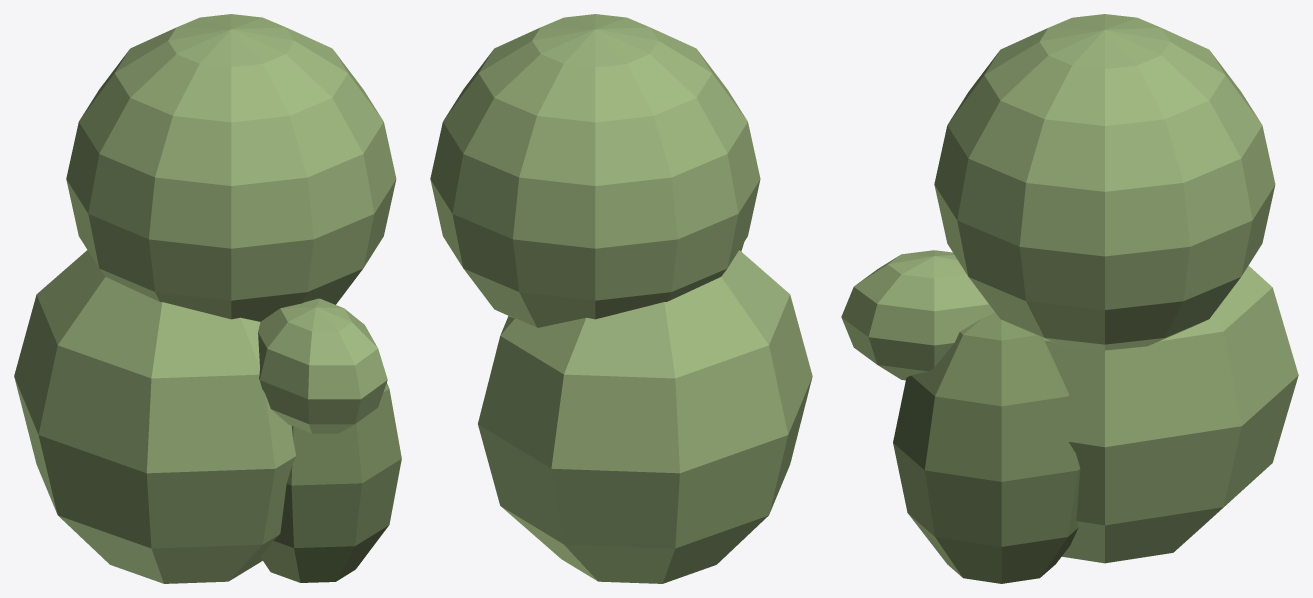
Rendered from SM_Orc_Hand_R.fbx.
The picture shows the model from 3 angles, left to right: view 1: azimuth 30°, elevation 25°; view 2: azimuth 150°, elevation 25°; view 3: azimuth 270°, elevation 25°; orthographic projection. The views are drawn at different scales.
Visible parts, largest first — view 1: SM_Orc_Hand_R; view 2: SM_Orc_Hand_R; view 3: SM_Orc_Hand_R.
Part boxes in pixels (x1=…): SM_Orc_Hand_R: x1=14, y1=14, x2=401, y2=583; SM_Orc_Hand_R: x1=430, y1=14, x2=812, y2=583; SM_Orc_Hand_R: x1=841, y1=14, x2=1298, y2=583.
Size of the model in its own units: 0.155 by 0.2332 by 0.177.
